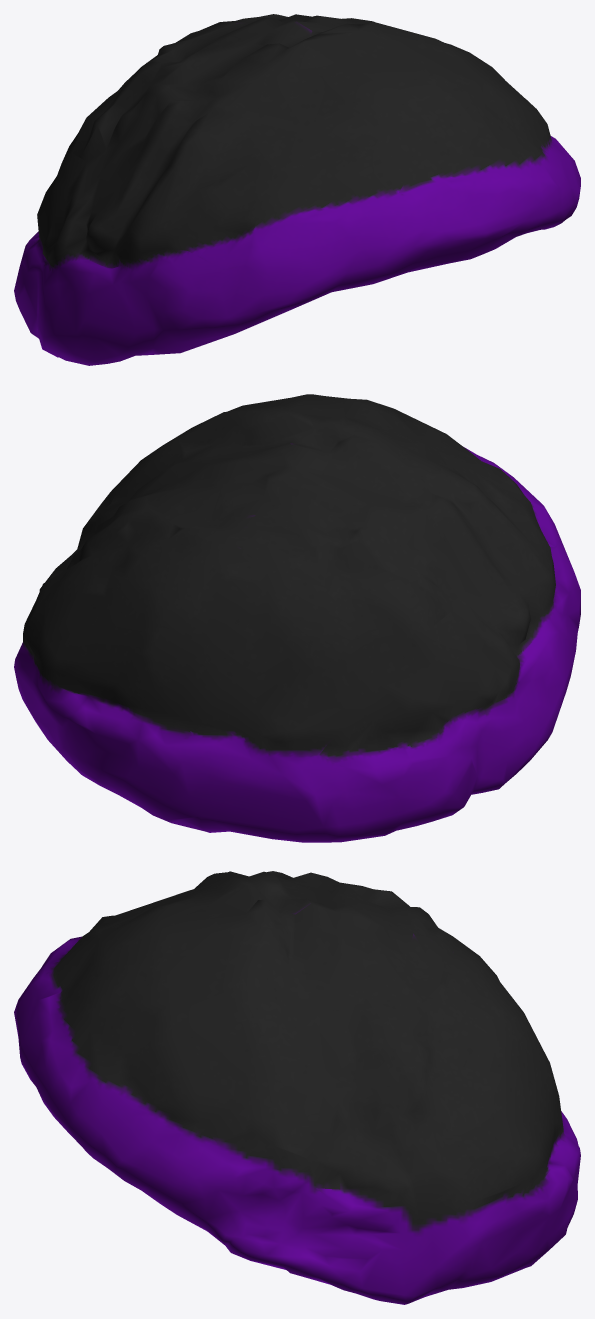
File: knit baltimore.glb
3 views of the same model, one above another, from view 1: azimuth 30°, elevation 25°; view 2: azimuth 150°, elevation 25°; view 3: azimuth 270°, elevation 25° (orthographic). The views are drawn at different scales.
Visible parts, largest first — view 1: hat_knit_baltimore.001; view 2: hat_knit_baltimore.001; view 3: hat_knit_baltimore.001.
Part boxes in pixels (x1,y1,x2,y2): hat_knit_baltimore.001: (14,14,580,365); hat_knit_baltimore.001: (14,394,580,842); hat_knit_baltimore.001: (14,871,580,1304).
Bounding box in the file's own units: 0.3698 × 0.233 × 0.3532.
1 material, 1 textured.
